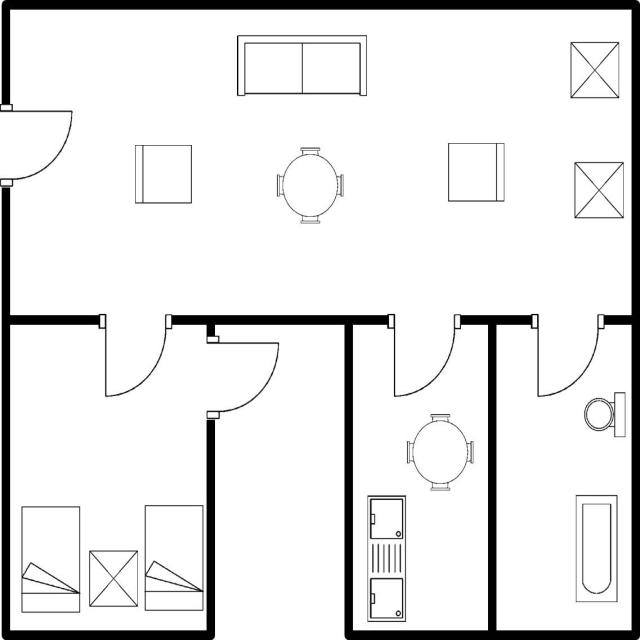bed: (16, 499, 85, 618), (140, 500, 207, 618)
coffee_table: (569, 156, 628, 224), (566, 34, 624, 102), (85, 546, 141, 611)
large_sink: (578, 385, 628, 446)
large_sofa: (232, 31, 369, 101)
round_table: (401, 408, 482, 495), (272, 143, 347, 227)
small_sofa: (443, 137, 509, 208), (130, 140, 199, 206)
tub: (570, 491, 620, 606)
twin_sink: (364, 490, 412, 626)
